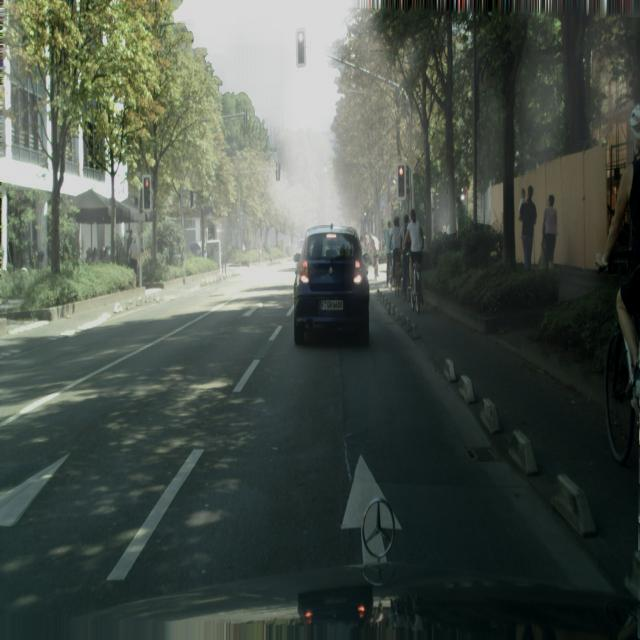car: (600, 100, 640, 467), (403, 212, 425, 311), (392, 215, 403, 304), (385, 219, 394, 286), (369, 229, 380, 277)
person: (519, 186, 537, 271), (542, 193, 558, 271), (128, 232, 140, 288)
truck: (293, 225, 370, 346)
